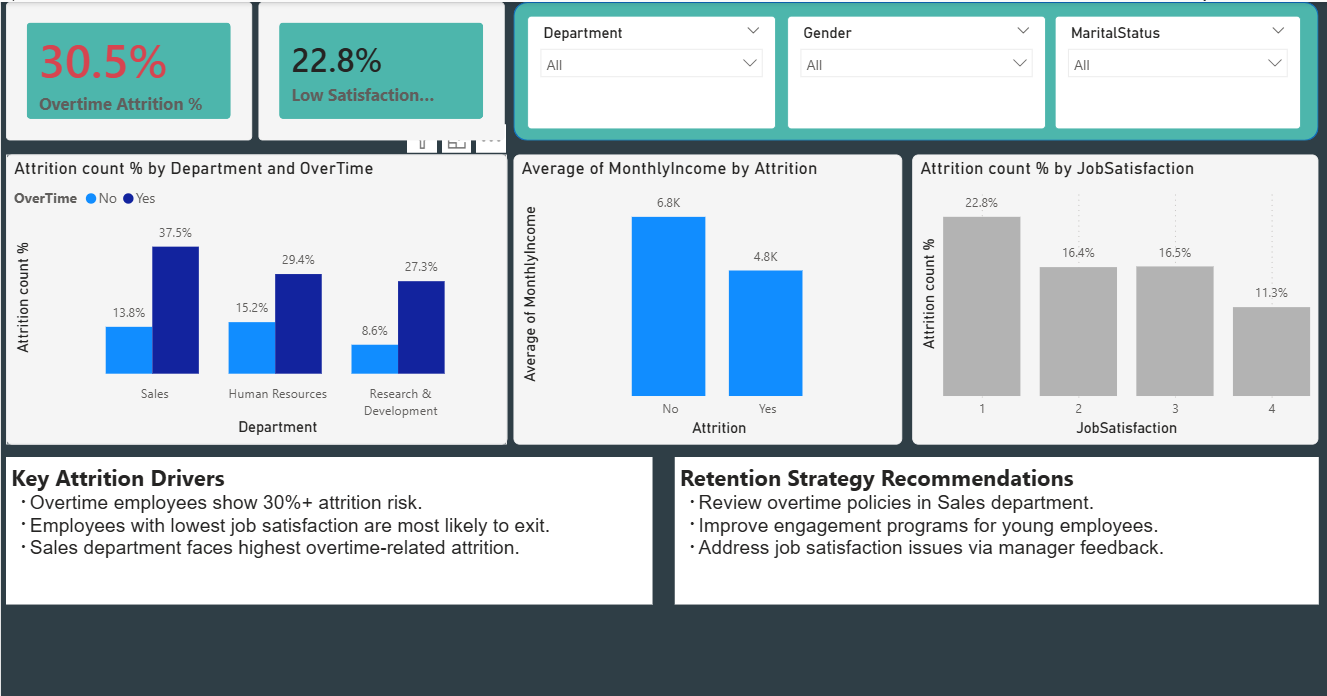

What the dashboard file says about the page in this screenshot:
{"tool":"powerbi","page":{"name":"Attrition Driver Analysis","canvas":[1280,720],"ordinal":1},"visuals":[{"type":"clusteredColumnChart","fields":{"Category":["HR Data.Department"],"Series":["HR Data.OverTime"],"Y":["HR Data.Attrition count %"]},"box":[4.8,147.2,483.8,279.9],"z":0},{"type":"columnChart","fields":{"Y":["Avg(HR Data.MonthlyIncome)"],"Category":["HR Data.Attrition"]},"box":[494.6,147.2,375.2,279.9],"z":1000},{"type":"columnChart","fields":{"Category":["HR Data.JobSatisfaction"],"Y":["HR Data.Attrition count %"]},"box":[879.5,147.2,392.1,279.9],"z":2000},{"type":"shape","box":[494.6,0,776.9,133.9],"z":3000},{"type":"slicer","fields":{"Values":["HR Data.Department"]},"box":[507.9,13.3,240.1,109.8],"z":4000},{"type":"slicer","fields":{"Values":["HR Data.Gender"]},"box":[758.9,13.3,249.7,109.8],"z":5000},{"type":"slicer","fields":{"Values":["HR Data.MaritalStatus"]},"box":[1017,13.3,237.7,109.8],"z":6000},{"type":"cardVisual","fields":{"Data":["HR Data.Overtime Attrition %"]},"box":[4.8,0,237.7,133.9],"z":7000},{"type":"cardVisual","fields":{"Data":["HR Data.Low Satisfaction Attrition %"]},"box":[248.5,0,237.7,133.9],"z":8000},{"type":"textbox","box":[4.8,439.1,623.7,142.4],"z":8001},{"type":"textbox","box":[650.3,439.1,621.3,142.4],"z":8002}]}

Visuals, with their boxes on the page's 1280x720 design canvas (x1, y1, x2, y2). These are canvas units, not pixel positions in the 1327x696 screenshot, which may show the page scaled, cropped or inside an application window:
clusteredColumnChart - HR Data.Department x HR Data.OverTime: x1=5 y1=147 x2=489 y2=427
columnChart - Avg(HR Data.MonthlyIncome) x HR Data.Attrition: x1=495 y1=147 x2=870 y2=427
columnChart - HR Data.JobSatisfaction x HR Data.Attrition count %: x1=880 y1=147 x2=1272 y2=427
shape: x1=495 y1=0 x2=1272 y2=134
slicer - HR Data.Department: x1=508 y1=13 x2=748 y2=123
slicer - HR Data.Gender: x1=759 y1=13 x2=1009 y2=123
slicer - HR Data.MaritalStatus: x1=1017 y1=13 x2=1255 y2=123
cardVisual - HR Data.Overtime Attrition %: x1=5 y1=0 x2=242 y2=134
cardVisual - HR Data.Low Satisfaction Attrition %: x1=248 y1=0 x2=486 y2=134
textbox: x1=5 y1=439 x2=628 y2=582
textbox: x1=650 y1=439 x2=1272 y2=582
